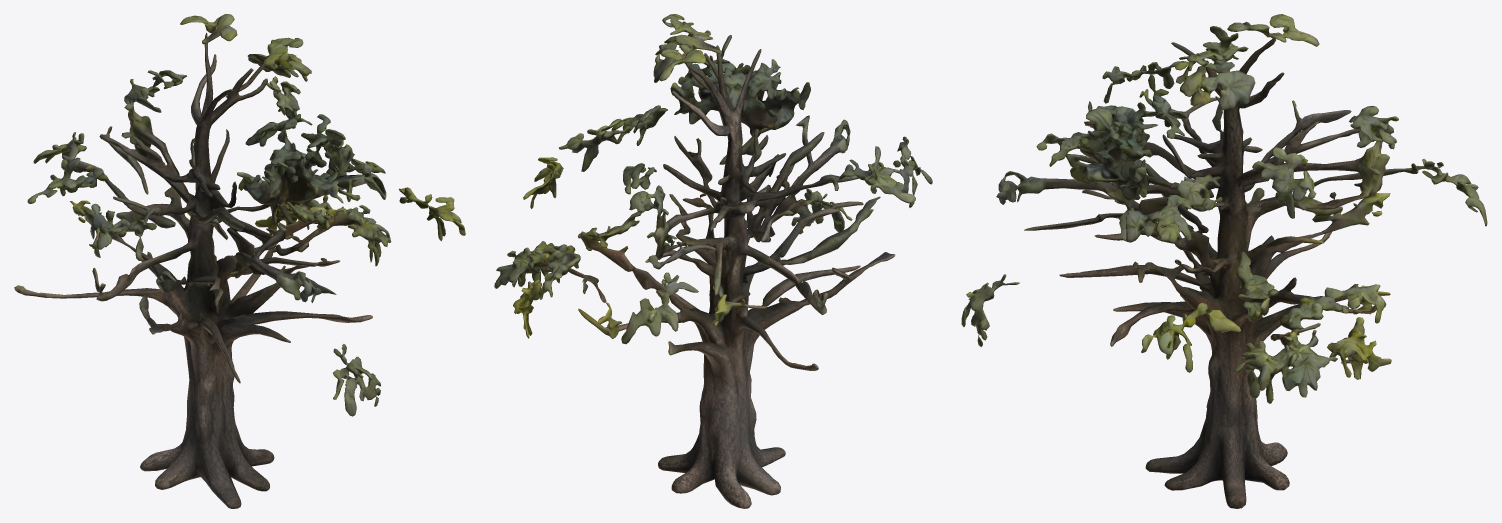
Rendered from nature-tree-oak.glb.
3 views of the same model, side by side, from view 1: azimuth 30°, elevation 25°; view 2: azimuth 150°, elevation 25°; view 3: azimuth 270°, elevation 25° (orthographic). The views are drawn at different scales.
Parts seen in each view (by area): view 1: tripo_node_9a3ddfbd-555c-45e7-9cca-176a7fb6edc0; view 2: tripo_node_9a3ddfbd-555c-45e7-9cca-176a7fb6edc0; view 3: tripo_node_9a3ddfbd-555c-45e7-9cca-176a7fb6edc0.
Part boxes in pixels (left/top/right/bottom): tripo_node_9a3ddfbd-555c-45e7-9cca-176a7fb6edc0: left=14, top=14, right=465, bottom=508; tripo_node_9a3ddfbd-555c-45e7-9cca-176a7fb6edc0: left=494, top=14, right=932, bottom=508; tripo_node_9a3ddfbd-555c-45e7-9cca-176a7fb6edc0: left=961, top=14, right=1487, bottom=508.
Bounding box in the file's own units: 7.61 × 7.99 × 8.13.
Materials: 1 (1 with a texture image).
